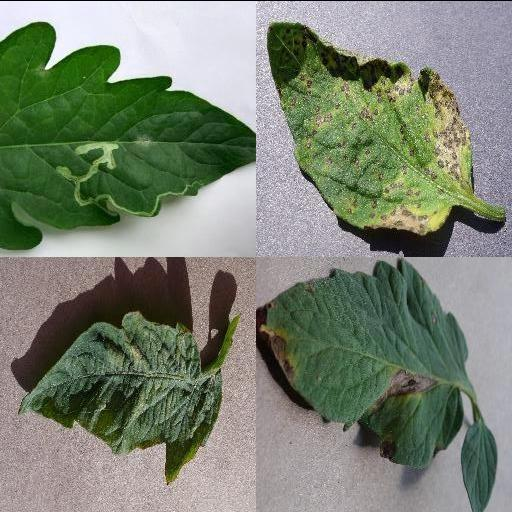Early Blight: (258, 256, 467, 469)
Healthy: (459, 422, 498, 512)
Leaf Miner: (0, 19, 256, 248)
Septoria: (265, 20, 473, 234)
Spider Mites: (16, 308, 222, 485)
